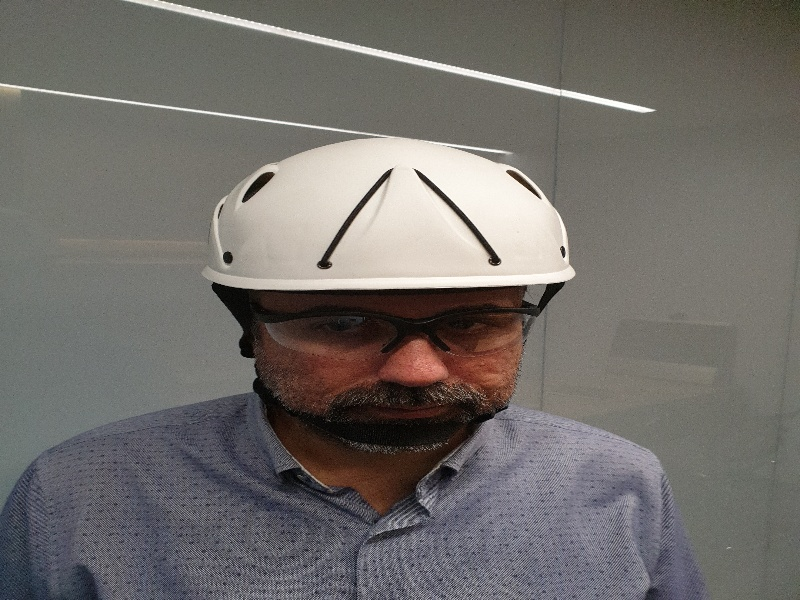Baret: (204, 138, 577, 289)
Gozluk: (256, 302, 539, 359)
